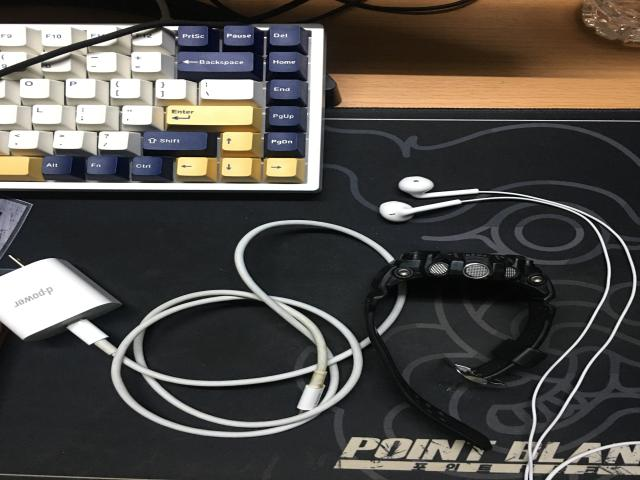Watch: (365, 251, 555, 449)
bottle: (582, 0, 640, 47)
wire: (0, 258, 362, 438), (378, 176, 637, 290)
